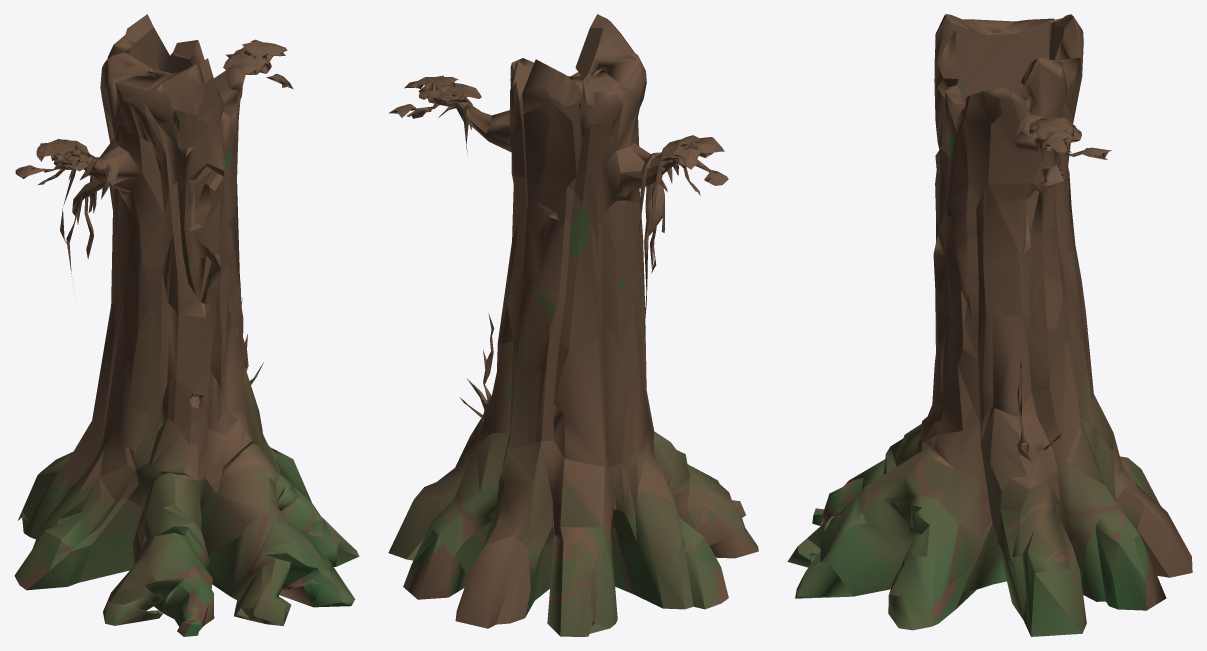
The model's file is cover_full_jungle_short-rejected.glb.
The picture shows the model from 3 angles, left to right: view 1: azimuth 30°, elevation 25°; view 2: azimuth 150°, elevation 25°; view 3: azimuth 270°, elevation 25°; orthographic projection. The views are drawn at different scales.
Visible parts, largest first — view 1: output_unwrapped; view 2: output_unwrapped; view 3: output_unwrapped.
Part boxes in pixels (box(x1,y1,x2,y2)): output_unwrapped: box(14, 14, 359, 636); output_unwrapped: box(388, 14, 758, 636); output_unwrapped: box(787, 14, 1192, 636).
Bounding box in the file's own units: 0.8942 × 1.45 × 0.9744.
Materials: 1 (1 with a texture image).
